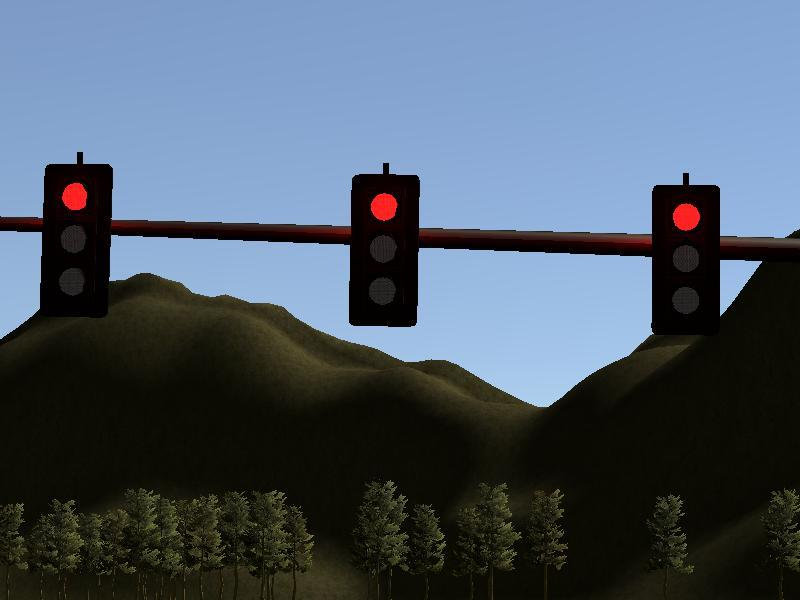Red: (351, 173, 417, 326), (45, 162, 110, 317), (654, 183, 720, 335)
